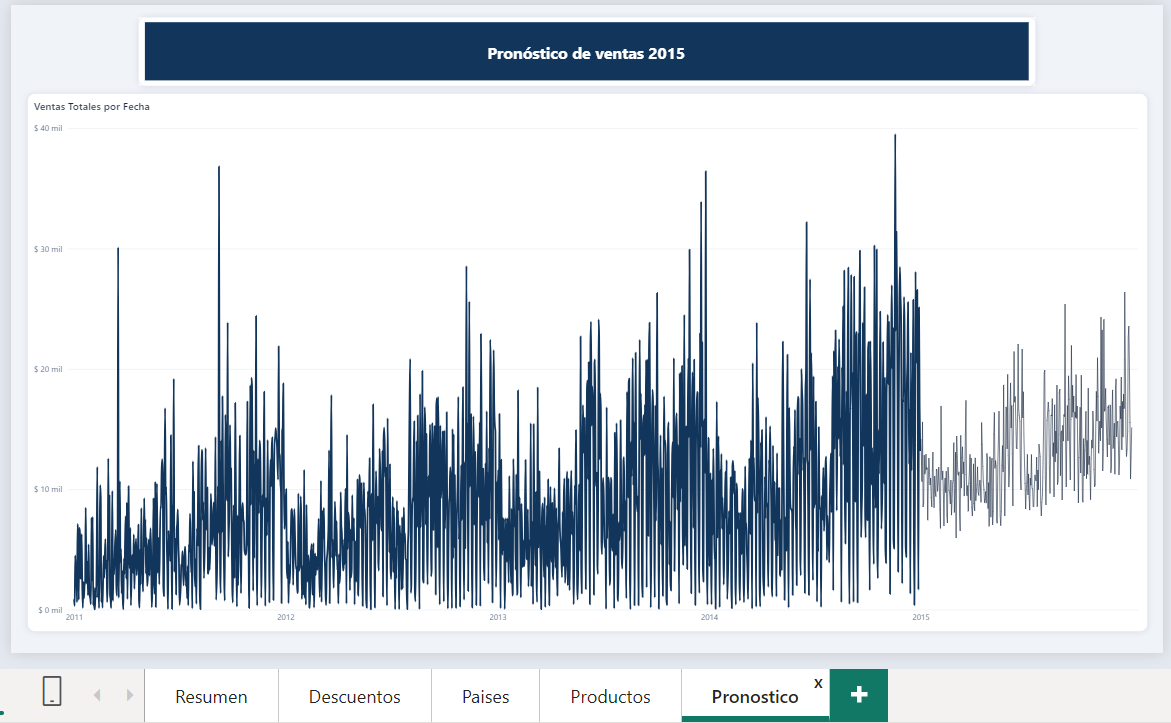

This screenshot's page, from the dashboard's own definition file:
{"tool":"powerbi","page":{"name":"Pronóstico","canvas":[1920,1080],"ordinal":4},"visuals":[{"type":"lineChart","fields":{"Category":["Dim_Tiempo.Fecha"],"Y":["Fact_Ventas.Ventas Totales"]},"box":[61.7,65,1721.7,883.3],"z":0}]}

Visuals, with their boxes on the page's 1920x1080 design canvas (x1, y1, x2, y2). These are canvas units, not pixel positions in the 1171x723 screenshot, which may show the page scaled, cropped or inside an application window:
lineChart - Dim_Tiempo.Fecha x Fact_Ventas.Ventas Totales: box=[62, 65, 1783, 948]
